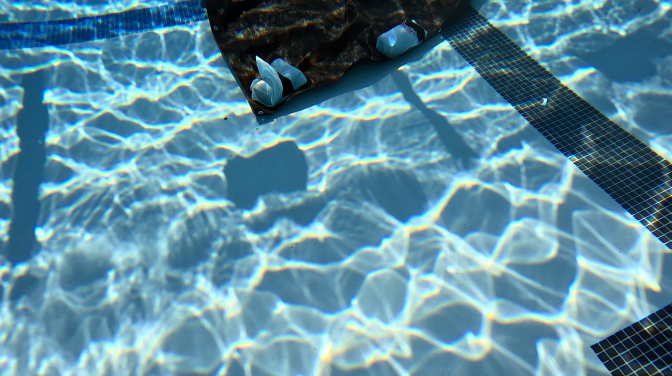sandbag: (203, 0, 472, 116)
